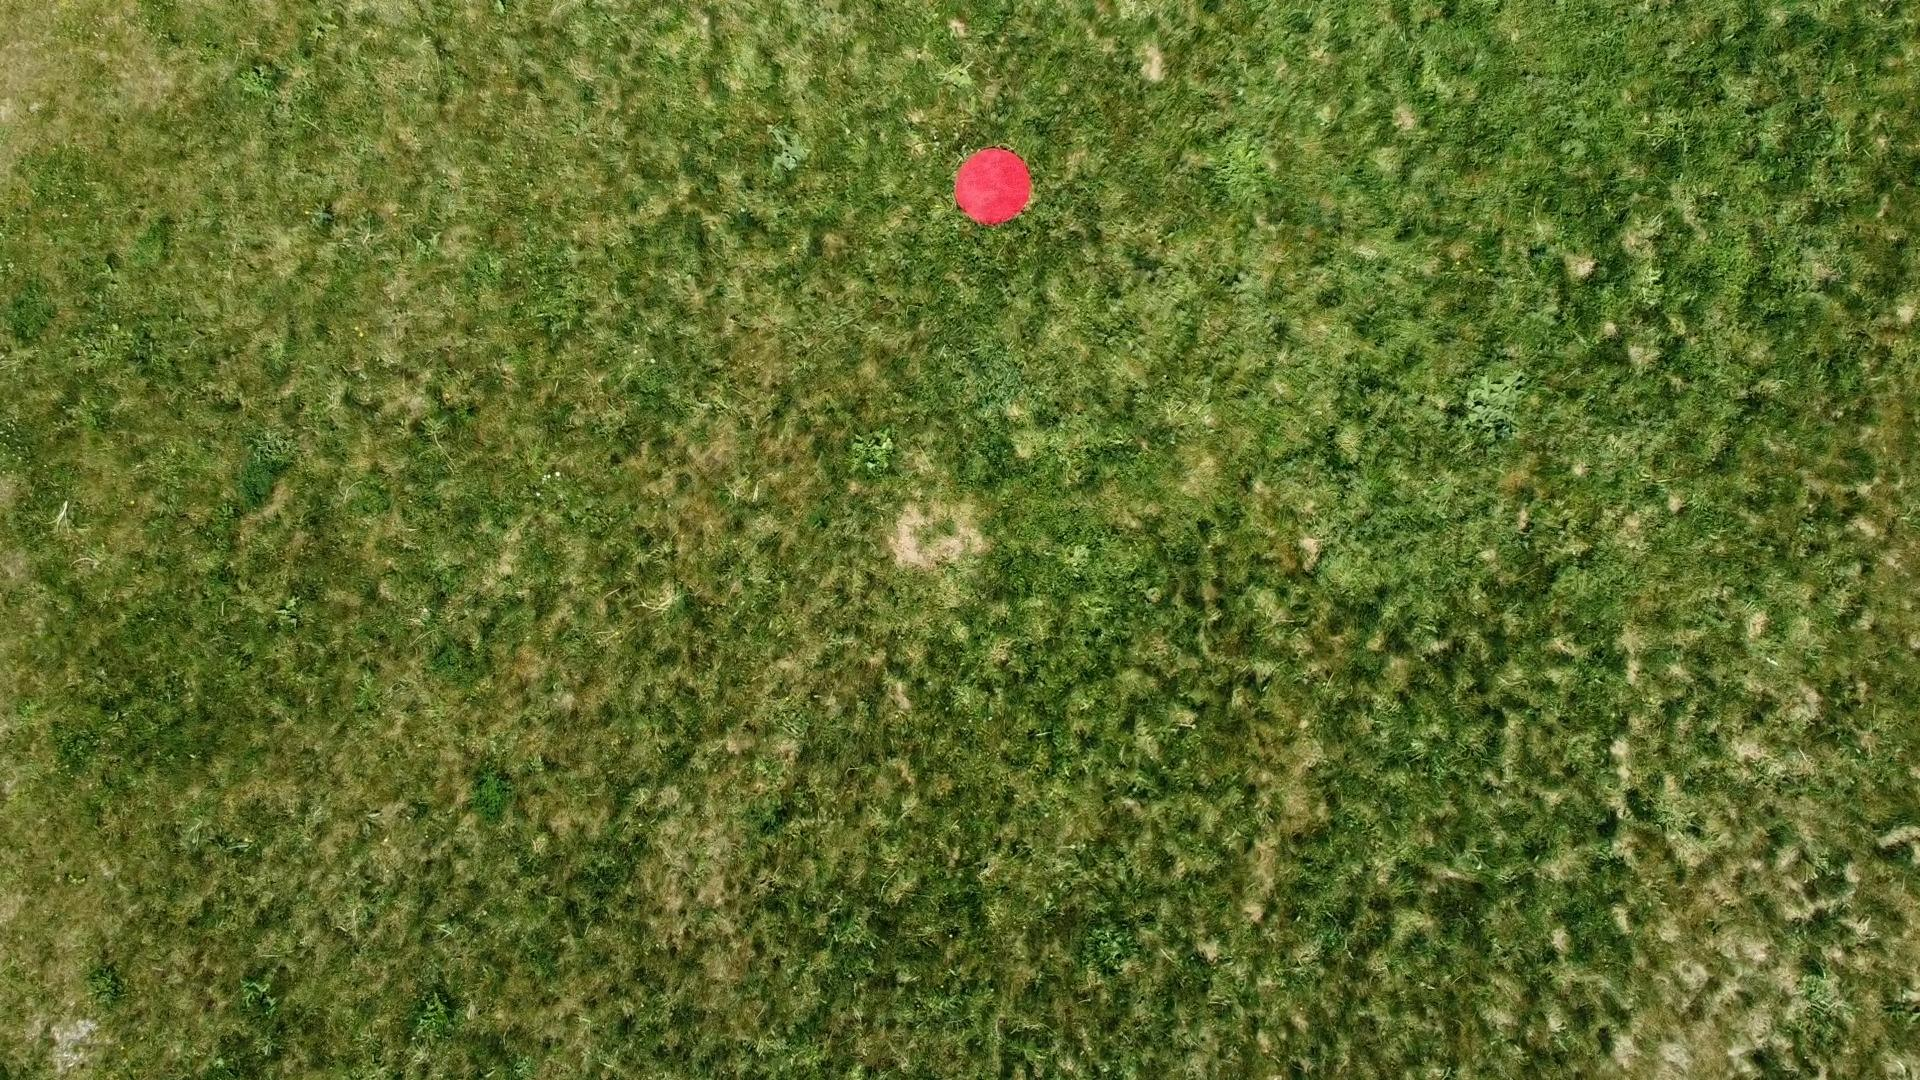Red: (951, 145, 1035, 228)
